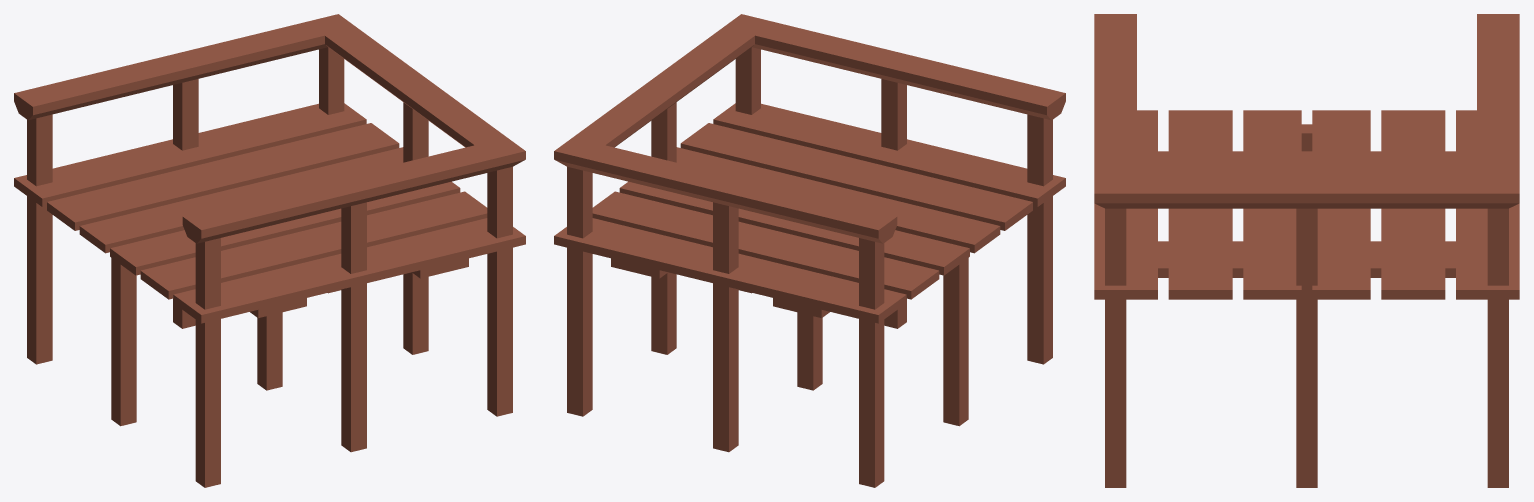
Rendered from scaffold_medium_cornerBoth 1.fbx.
3 renders of one model, left to right at view 1: azimuth 30°, elevation 25°; view 2: azimuth 150°, elevation 25°; view 3: azimuth 270°, elevation 25°, orthographic. The views are drawn at different scales.
Parts seen in each view (by area): view 1: scaffold_medium_cornerBoth; view 2: scaffold_medium_cornerBoth; view 3: scaffold_medium_cornerBoth.
Part boxes in pixels (x1=…): scaffold_medium_cornerBoth: x1=14, y1=14, x2=525, y2=487; scaffold_medium_cornerBoth: x1=554, y1=14, x2=1065, y2=487; scaffold_medium_cornerBoth: x1=1094, y1=14, x2=1519, y2=487.
Bounding box in the file's own units: 400 × 310 × 400.
